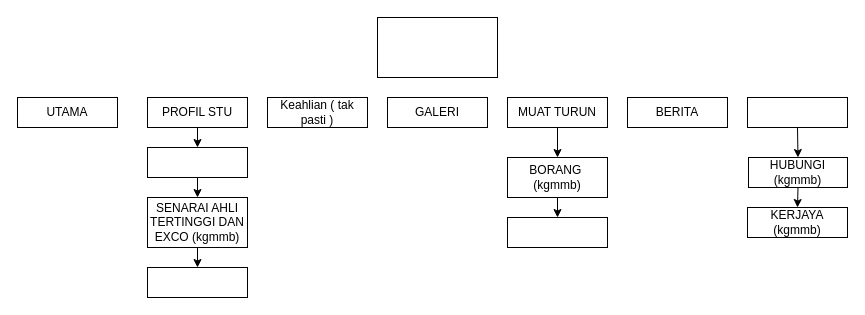
Image size: 865x315. Some labels were removed from this diagram. Here are the shapes that lost their labels. From the top down, the centre of each, then its label:
point 437,47: Navbar
point 797,112: HUBUNGI KAMI
point 197,162: MENGENAI STU (mcm kgks)
point 557,232: HANTAR BORANG
point 197,282: PENGURUSAN (kgmmb)
